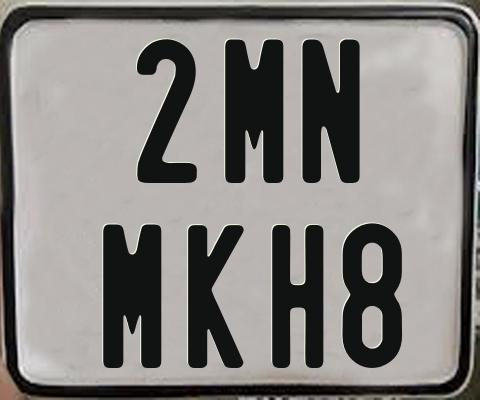2: (134, 38, 199, 188)
8: (339, 220, 404, 369)
H: (272, 222, 326, 367)
K: (185, 223, 247, 366)
M: (101, 222, 164, 367), (223, 39, 284, 186)
N: (300, 37, 364, 186)
